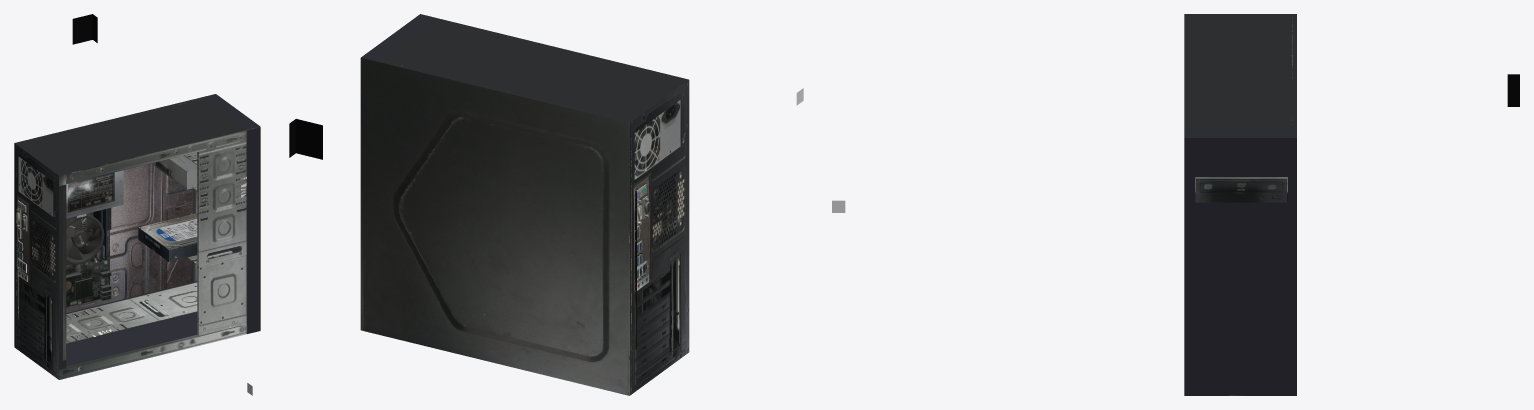
File: PCPartsAssemblyLatest.fbx
3 renders of one model, left to right at view 1: azimuth 30°, elevation 25°; view 2: azimuth 150°, elevation 25°; view 3: azimuth 270°, elevation 25°, orthographic. The views are drawn at different scales.
Visible parts, largest first — view 1: PC_Case, PC_Powersupply, PC_Motherboard, PC_HDD, PC_OpticalDisc, CPU_HSF_Fan, CPU_HSF_Cooling, Socet, PC_RAM; view 2: PC_Case, PC_Powersupply, Socet, PC_Motherboard; view 3: PC_Case, PC_OpticalDisc.
Part boxes in pixels (left/top/right/bottom): PC_Case: left=14, top=94, right=260, bottom=379; PC_Powersupply: left=18, top=156, right=123, bottom=218; PC_Motherboard: left=16, top=200, right=111, bottom=319; PC_HDD: left=138, top=213, right=197, bottom=261; PC_OpticalDisc: left=151, top=155, right=197, bottom=189; CPU_HSF_Fan: left=66, top=218, right=99, bottom=259; CPU_HSF_Cooling: left=66, top=213, right=104, bottom=264; Socet: left=72, top=14, right=97, bottom=44; PC_RAM: left=102, top=208, right=107, bottom=260; PC_Case: left=360, top=14, right=689, bottom=395; PC_Powersupply: left=634, top=100, right=680, bottom=179; Socet: left=289, top=119, right=322, bottom=159; PC_Motherboard: left=635, top=184, right=649, bottom=350; PC_Case: left=1184, top=14, right=1296, bottom=395; PC_OpticalDisc: left=1196, top=177, right=1286, bottom=202.
Bounding box in the file's own units: 466 × 490 × 1061.
Materials: 8 (8 with a texture image).
